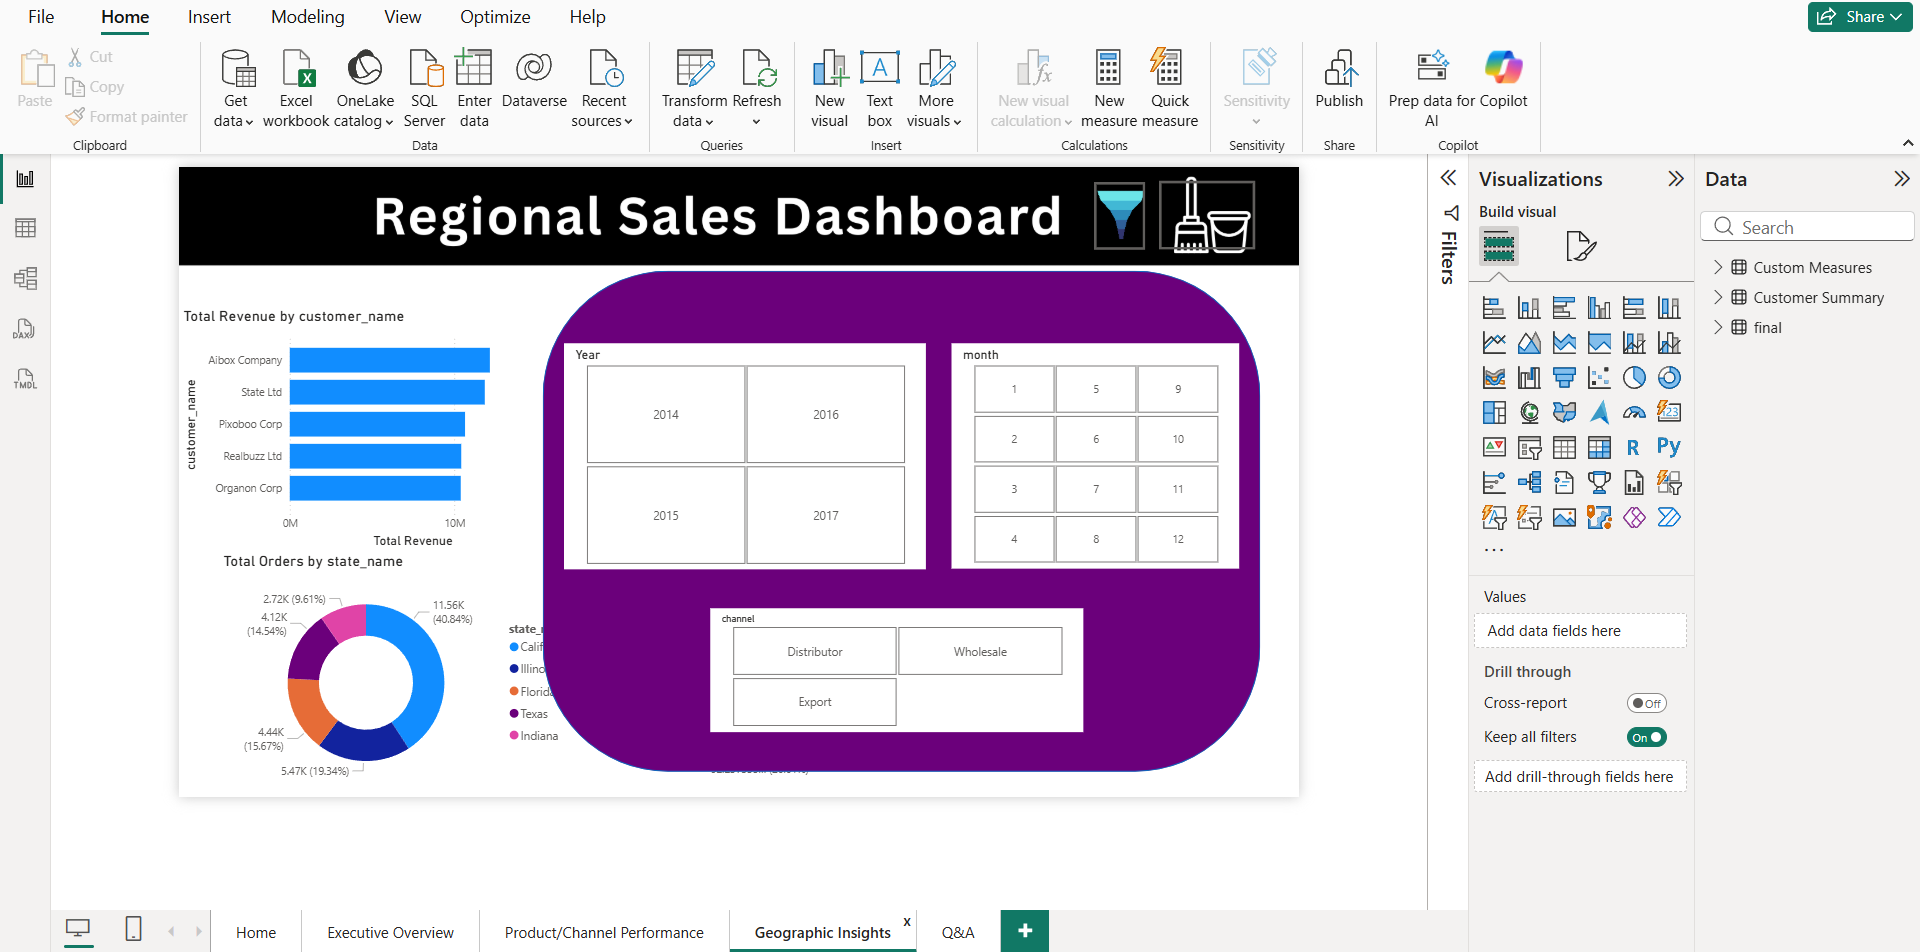

What the dashboard file says about the page in this screenshot:
{"tool":"powerbi","page":{"name":"Geographic Insights","canvas":[1280,720],"ordinal":3},"visuals":[{"type":"shape","title":"Filter Background","box":[415,118.8,820,572.5],"z":0,"group":"g1"},{"type":"barChart","fields":{"Category":["final.customer_name"],"Y":["Custom Measures (2).Total Revenue"]},"box":[0,160.5,425.9,279.9],"z":0},{"type":"barChart","fields":{"Category":["final.customer_name"],"Y":["Custom Measures (2).Profit Margin %"]},"box":[489.8,160.5,425.9,279.9],"z":1000},{"type":"slicer","fields":{"Values":["final.Year"]},"box":[438.8,201.6,413.8,258.8],"z":1000,"group":"g1"},{"type":"barChart","fields":{"Category":["final.state_name"],"Y":["Custom Measures (2).Total Revenue"]},"box":[854.2,160.5,425.9,279.9],"z":2000},{"type":"slicer","fields":{"Values":["final.month"]},"box":[882.5,201.6,328.8,257.5],"z":2000,"group":"g1"},{"type":"donutChart","fields":{"Category":["final.state_name"],"Y":["Custom Measures (2).Total Orders"]},"box":[45.3,440.5,425.4,279.9],"z":3000},{"type":"slicer","fields":{"Values":["final.channel"]},"box":[606.2,504.1,426.2,141.2],"z":3000,"group":"g1"},{"type":"donutChart","fields":{"Category":["final.state_name"],"Y":["Custom Measures (2).AVG Profit Margin %"]},"box":[581.8,440.5,425.4,279.9],"z":4000},{"type":"group","id":"g1","title":"Filters Pannel","box":[415,118.8,820,572.5],"z":5000},{"type":"actionButton","box":[1045,17.5,58.8,77.5],"z":6000},{"type":"actionButton","box":[1120,16.2,110,78.8],"z":7000}]}

Visuals, with their boxes on the page's 1280x720 design canvas (x1, y1, x2, y2). These are canvas units, not pixel positions in the 1920x952 screenshot, which may show the page scaled, cropped or inside an application window:
"Filter Background" shape: [415, 119, 1235, 691]
barChart - final.customer_name x Custom Measures (2).Total Revenue: [0, 160, 426, 440]
barChart - final.customer_name x Custom Measures (2).Profit Margin %: [490, 160, 916, 440]
slicer - final.Year: [439, 202, 853, 460]
barChart - final.state_name x Custom Measures (2).Total Revenue: [854, 160, 1280, 440]
slicer - final.month: [882, 202, 1211, 459]
donutChart - final.state_name x Custom Measures (2).Total Orders: [45, 440, 471, 720]
slicer - final.channel: [606, 504, 1032, 645]
donutChart - final.state_name x Custom Measures (2).AVG Profit Margin %: [582, 440, 1007, 720]
"Filters Pannel" group: [415, 119, 1235, 691]
actionButton: [1045, 18, 1104, 95]
actionButton: [1120, 16, 1230, 95]
